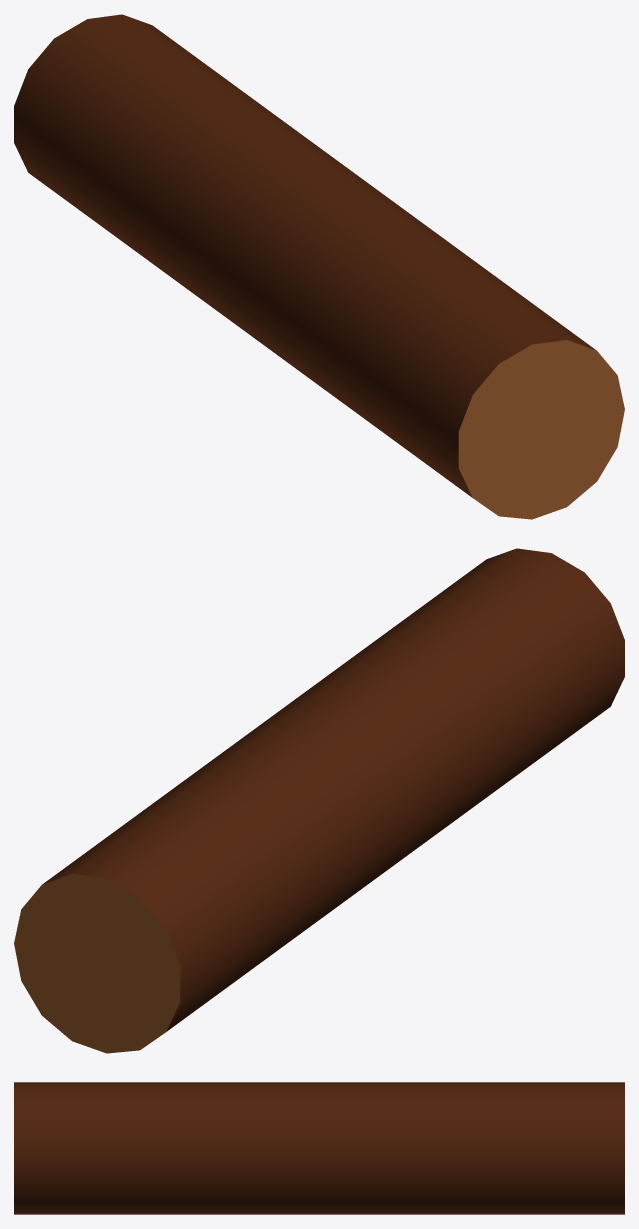
File: Tronco.fbx
The picture shows the model from 3 angles, top to bottom: view 1: azimuth 30°, elevation 25°; view 2: azimuth 150°, elevation 25°; view 3: azimuth 270°, elevation 25°; orthographic projection. The views are drawn at different scales.
Visible parts, largest first — view 1: Tronco; view 2: Tronco; view 3: Tronco.
Part boxes in pixels (x1,y1,x2,y2): Tronco: (14, 14, 624, 519); Tronco: (14, 548, 624, 1053); Tronco: (14, 1082, 624, 1214).
Size of the model in its own units: 0.7494 by 0.7535 by 3.47.
